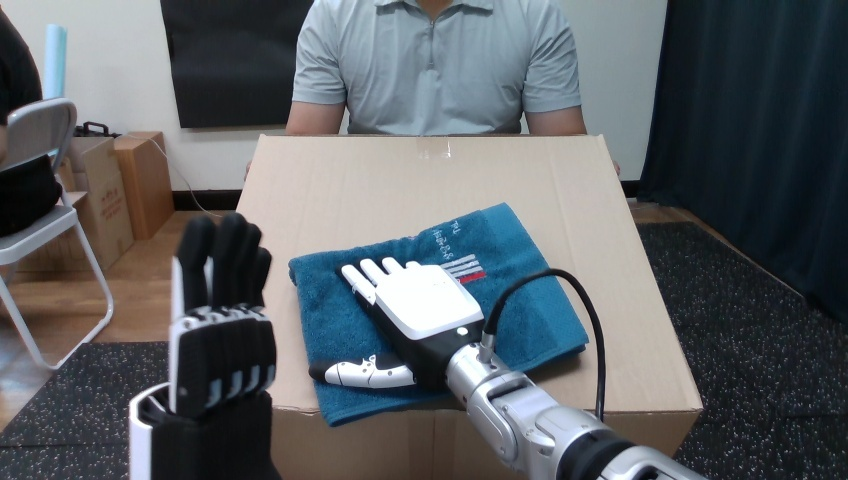left robot hand: (309, 257, 703, 479), (129, 212, 278, 479), (493, 274, 598, 415)
